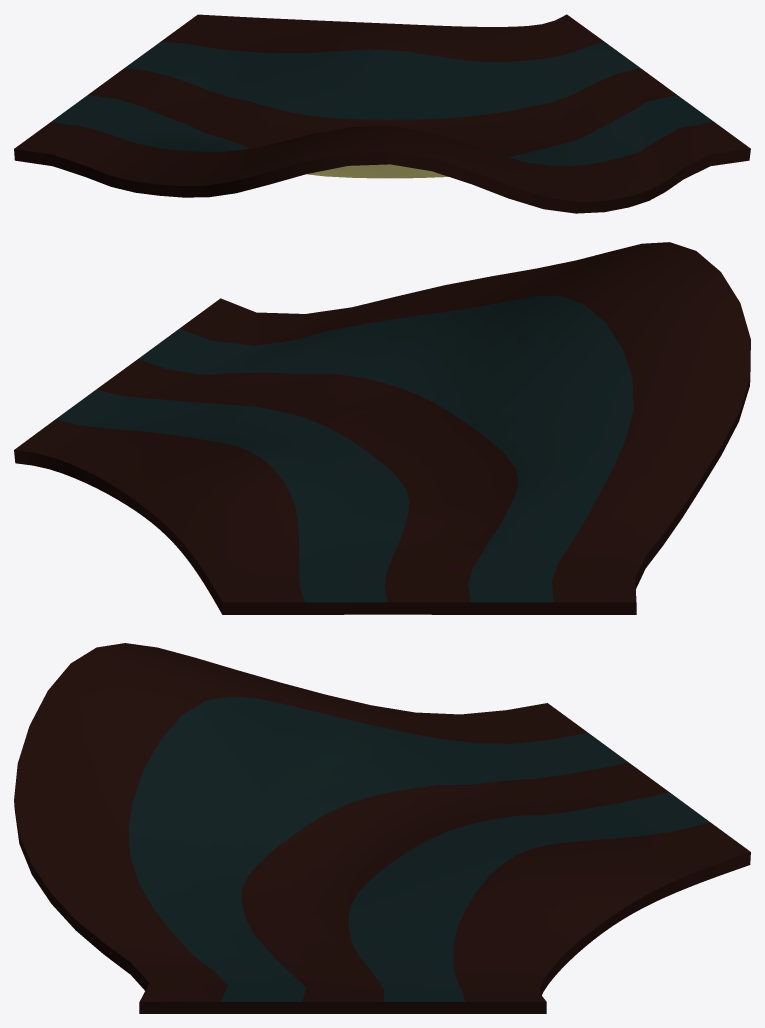
Rendered from trackright2.fbx.
3 views of the same model, one above another, from view 1: azimuth 30°, elevation 25°; view 2: azimuth 150°, elevation 25°; view 3: azimuth 270°, elevation 25° (orthographic). The views are drawn at different scales.
Parts seen in each view (by area): view 1: right2; view 2: right2; view 3: right2.
Part boxes in pixels (bbox=[...]): right2: bbox=[14, 14, 750, 213]; right2: bbox=[14, 242, 750, 614]; right2: bbox=[14, 643, 750, 1013].
Bounding box in the file's own units: 502 × 112 × 523.
1 material, 1 textured.
